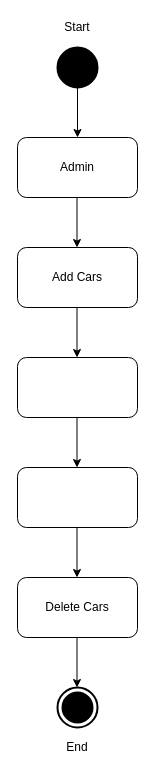
Image size: 155x774. Some labels were removed from this diagram. The shapes that lost their labels are listed below. From the top down, each one's centre as x and y in pixels, then its label:
At [77,387]: "Update Car".
At [77,497]: "Show Car".
